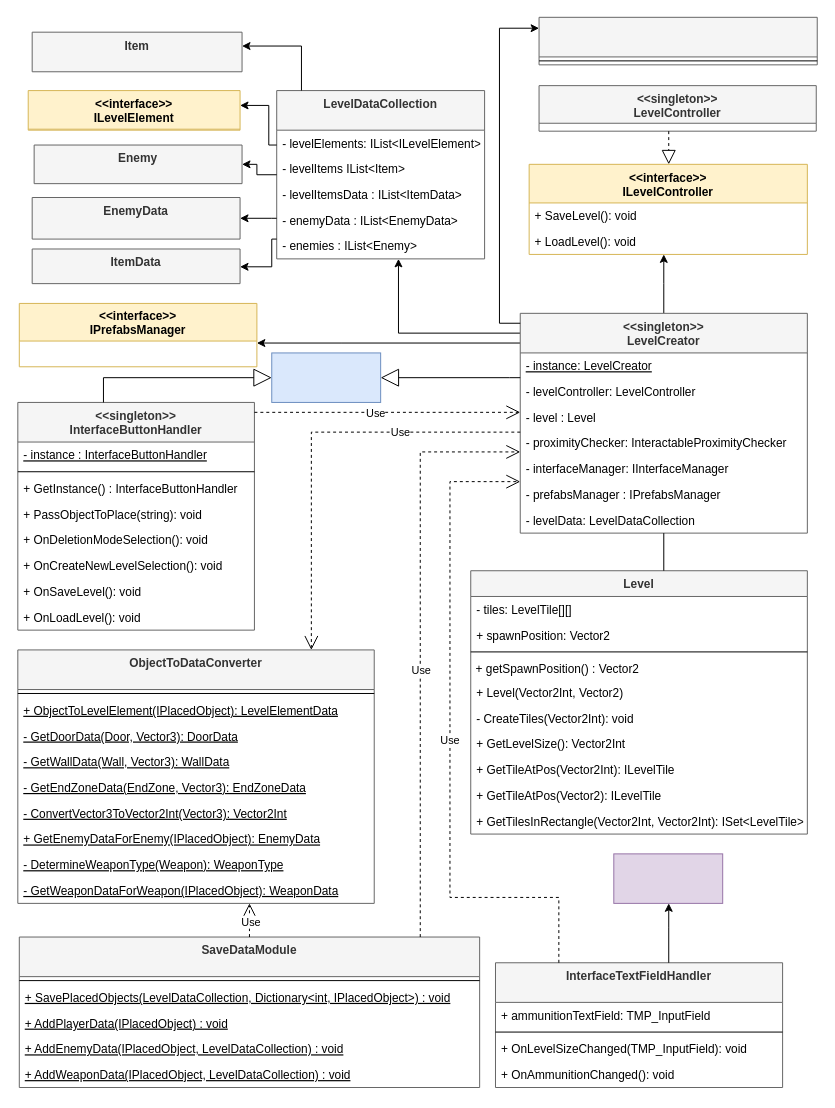
This 835x1108 diagram has some shape labels left out. The centre of each missing label's shape, as x and y in pixels:
"InteractableProximityChecker" belongs at (677,40).
"MonoBehaviour" belongs at (326,377).
"TMP_InputField" belongs at (668,878).
